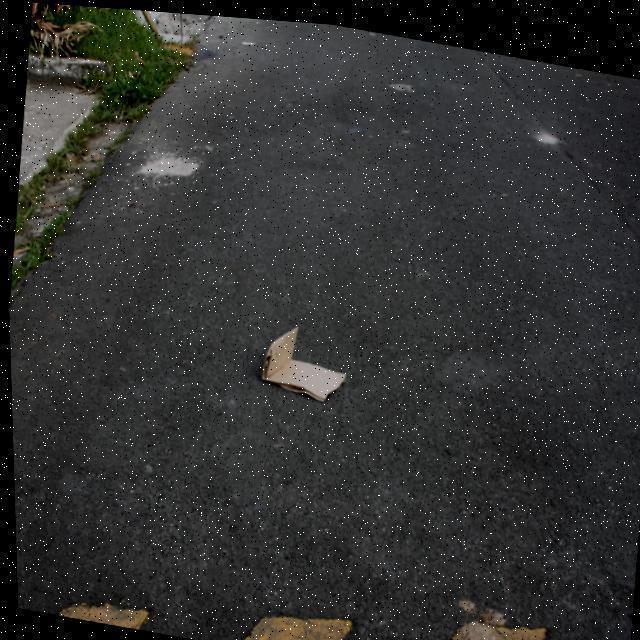Paper_Bag: (255, 315, 348, 400)
